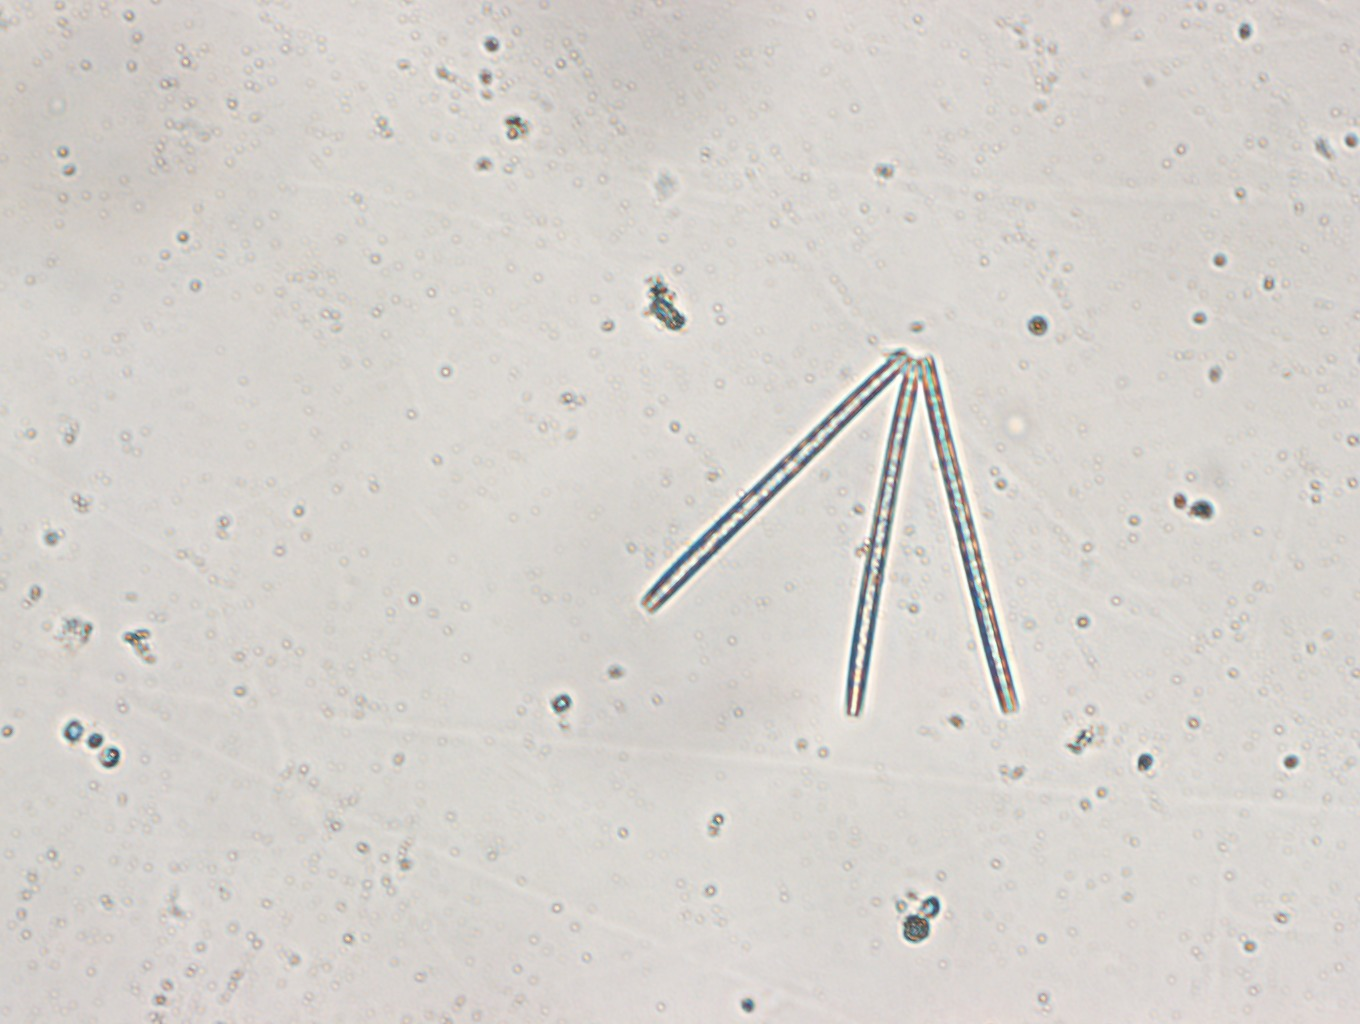thalassionema nitzschioides: (636, 345, 1025, 723)
